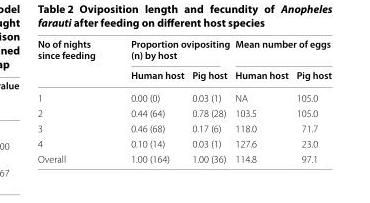table: (36, 36, 330, 164)
table column: (36, 36, 112, 164), (112, 36, 187, 164), (231, 36, 291, 164), (187, 36, 231, 164), (291, 36, 330, 164)
table column header: (36, 36, 330, 86)
table row: (36, 36, 330, 64), (36, 64, 330, 86), (36, 86, 330, 105), (36, 105, 330, 120), (36, 120, 330, 135), (36, 135, 330, 150), (36, 150, 330, 164)
table spanning cell: (36, 36, 112, 86), (112, 36, 231, 64), (231, 36, 330, 64)
